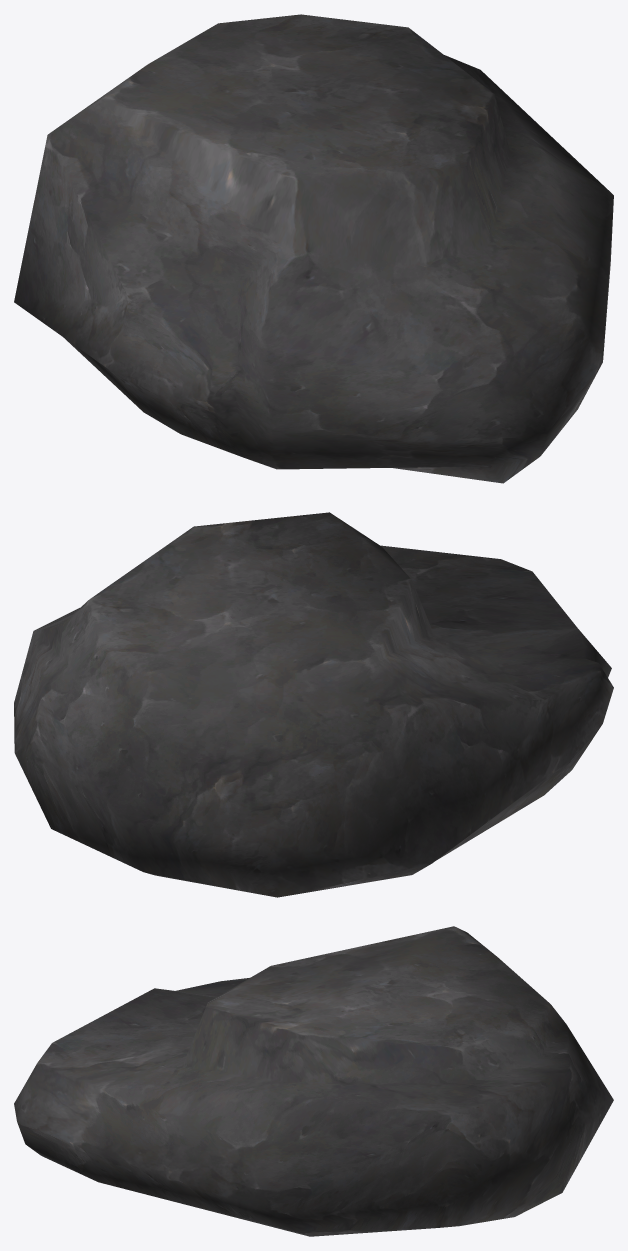
File: cragrocksmall_c01.obj
3 renders of one model, top to bottom at view 1: azimuth 30°, elevation 25°; view 2: azimuth 150°, elevation 25°; view 3: azimuth 270°, elevation 25°, orthographic. The views are drawn at different scales.
Parts seen in each view (by area): view 1: world/expansion06/doodads/suramar/7sr_cragrocksmall_c01.m2_Geose; view 2: world/expansion06/doodads/suramar/7sr_cragrocksmall_c01.m2_Geose; view 3: world/expansion06/doodads/suramar/7sr_cragrocksmall_c01.m2_Geose.
Part boxes in pixels (x1,y1,x2,y2): world/expansion06/doodads/suramar/7sr_cragrocksmall_c01.m2_Geose: (14,14,613,483); world/expansion06/doodads/suramar/7sr_cragrocksmall_c01.m2_Geose: (14,512,613,897); world/expansion06/doodads/suramar/7sr_cragrocksmall_c01.m2_Geose: (14,926,613,1236).
Size of the model in its own units: 5.79 by 2.8 by 7.78.
1 material, 1 textured.
